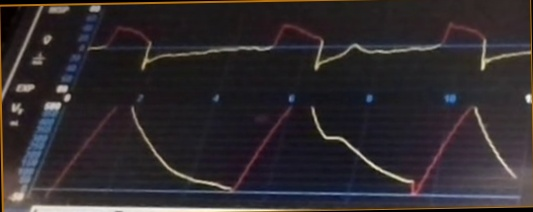Ineffective_effort Flow: (90, 18, 531, 83)
Ineffective_effort Volume: (48, 107, 516, 197)
